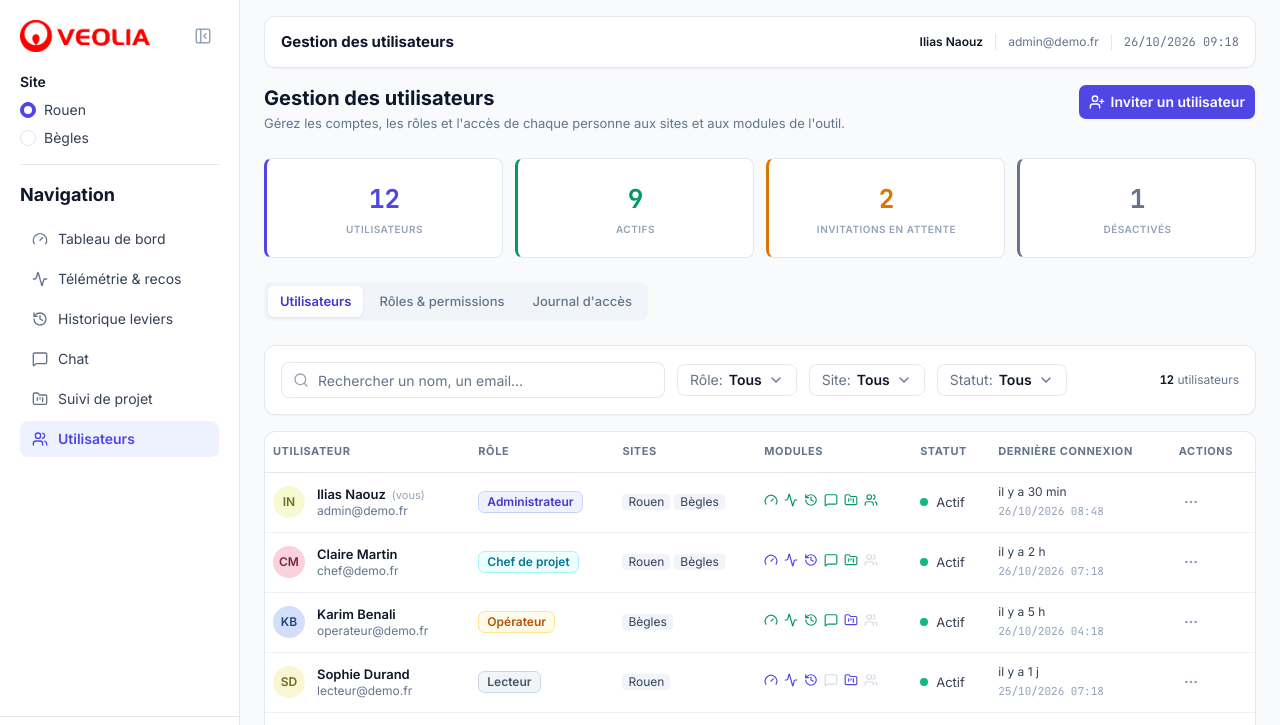
Test case: UsersPage › filtre les utilisateurs avec la recherche
This screenshot has width=1280, height=725.
In the search field with placeholder "Rechercher un nom, un email…": (473, 380) x1=281 y1=362 x2=665 y2=398, type "benali"
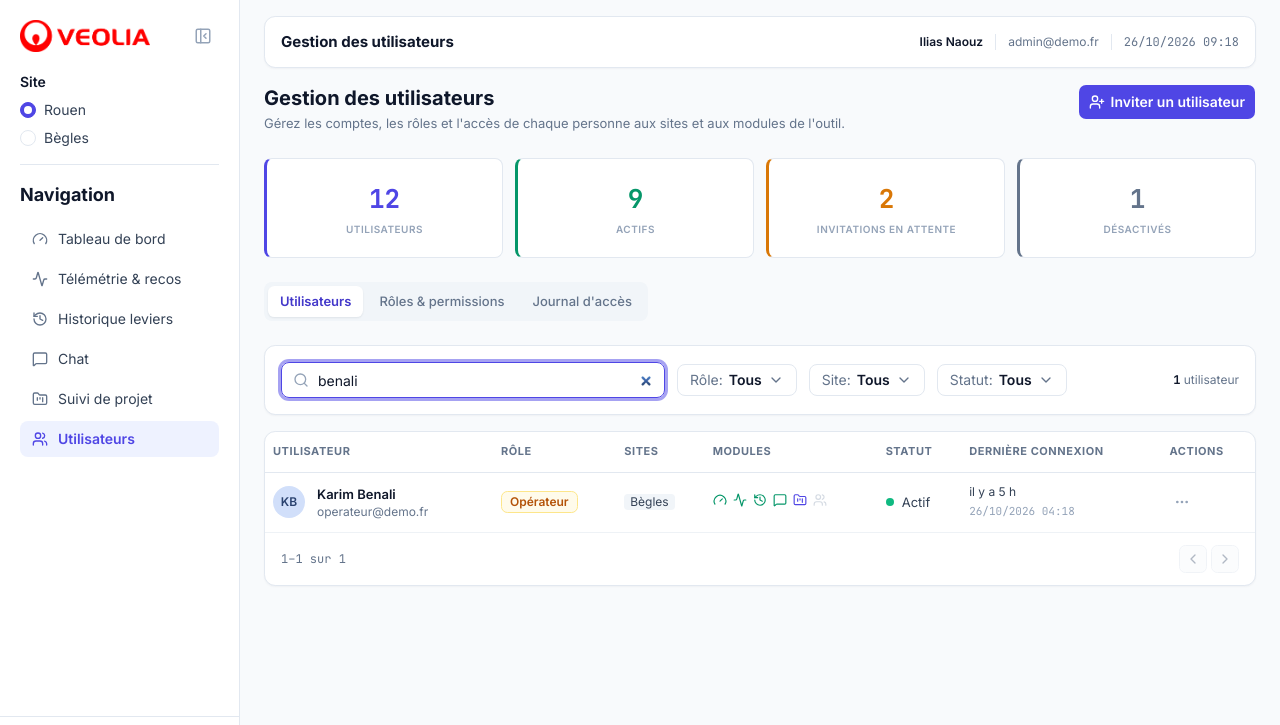
Now the text "1–1 sur 1" is shown, box x1=281 y1=551 x2=346 y2=567
